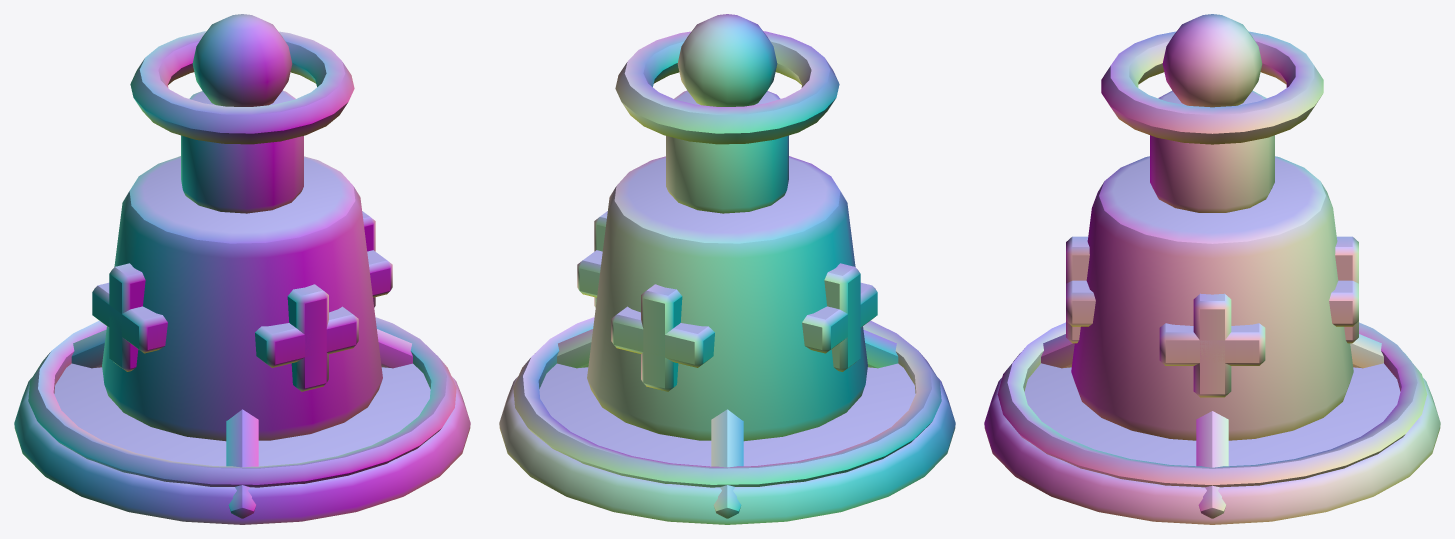
File: gad_regen.glb
3 views of the same model, side by side, from view 1: azimuth 30°, elevation 25°; view 2: azimuth 150°, elevation 25°; view 3: azimuth 270°, elevation 25° (orthographic).
Parts seen in each view (by area): view 1: regen; view 2: regen; view 3: regen.
Part boxes in pixels (x1,y1,x2,y2): regen: [14, 14, 470, 524]; regen: [499, 14, 955, 524]; regen: [984, 14, 1440, 524].
Bounding box in the file's own units: 0.1471 × 0.146 × 0.1464.
